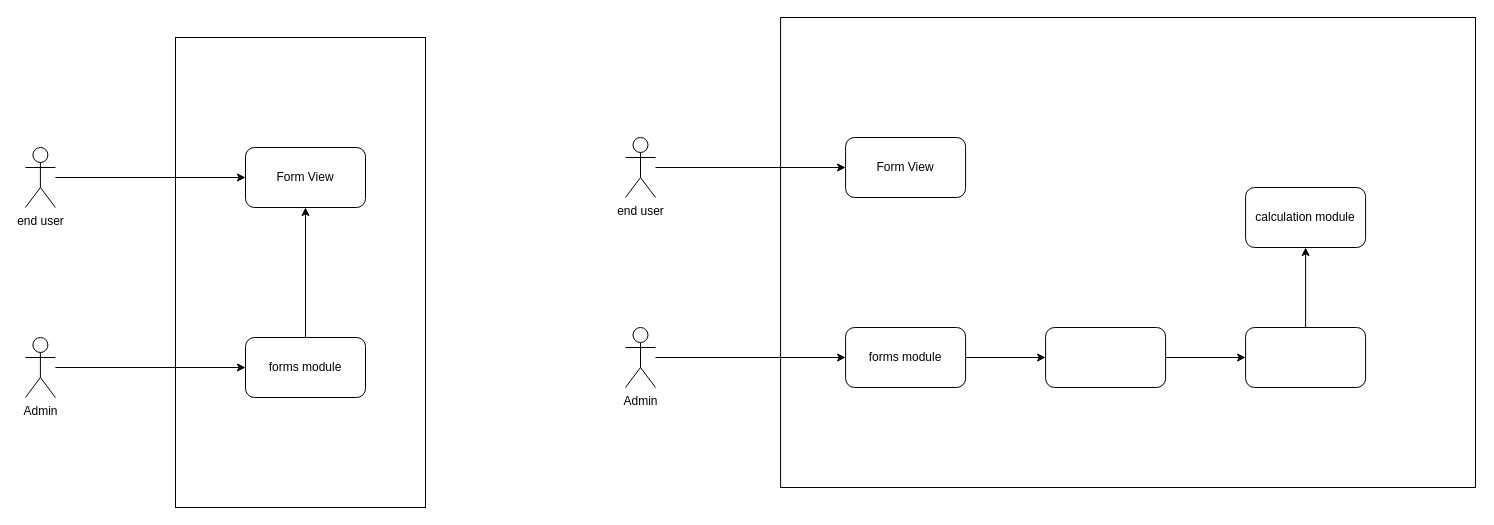
Image size: 1494x525. Some labels were removed from this diagram. The shapes that lost their labels are listed below. From the top down, each one's centre as x and y in pixels, then its label:
the point at 1105,357: excel data injector
the point at 1305,357: variable module
